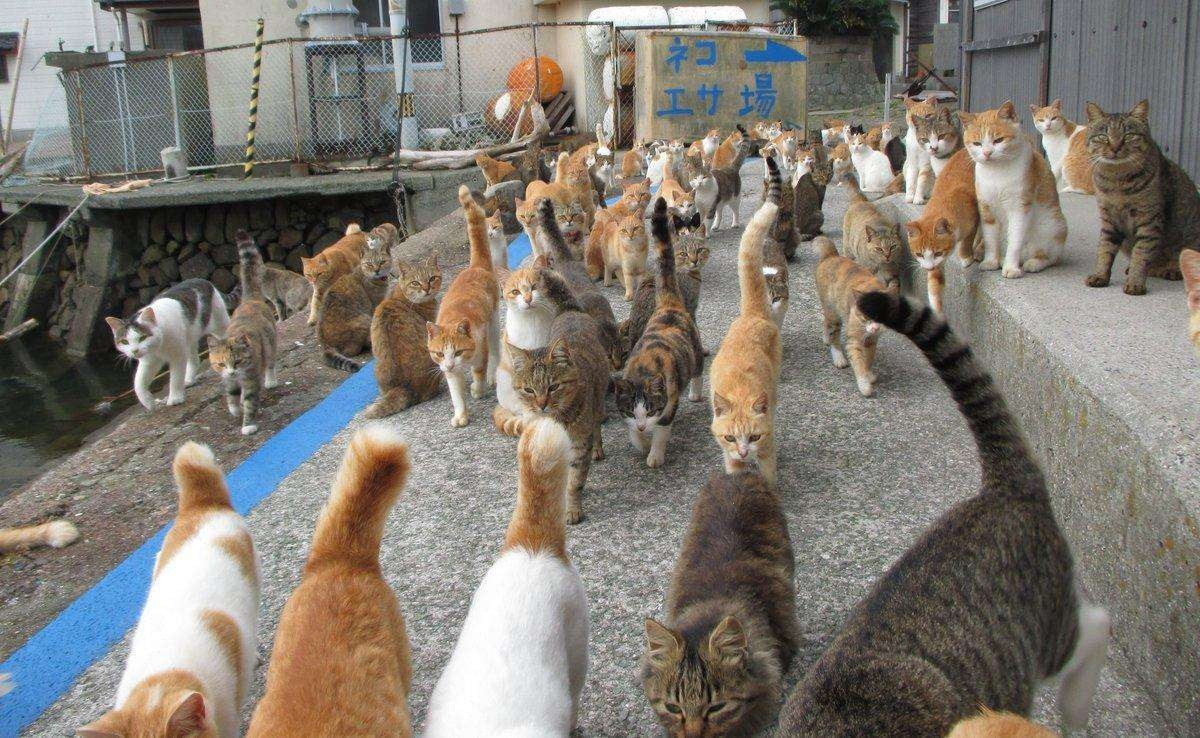cat: (772, 292, 1110, 738), (416, 417, 591, 738), (79, 440, 262, 738), (242, 425, 412, 738), (638, 471, 801, 738), (503, 272, 611, 525), (613, 199, 703, 469), (703, 203, 786, 484), (1082, 101, 1200, 296), (955, 101, 1067, 280), (424, 185, 503, 429), (105, 277, 233, 412), (208, 229, 279, 435), (809, 235, 894, 397), (907, 146, 986, 318), (364, 250, 444, 419), (618, 225, 710, 360), (318, 242, 393, 372), (839, 173, 908, 299), (741, 157, 790, 327), (301, 222, 373, 324), (1029, 99, 1103, 194), (688, 125, 750, 230), (514, 151, 574, 259), (593, 207, 651, 297), (234, 260, 314, 322), (903, 95, 939, 205), (909, 109, 965, 178), (792, 158, 835, 241), (846, 132, 899, 193), (551, 201, 589, 259), (659, 161, 696, 219), (609, 177, 650, 217), (589, 149, 617, 207), (763, 127, 796, 175), (485, 210, 509, 270), (471, 150, 514, 182), (364, 222, 400, 252)
